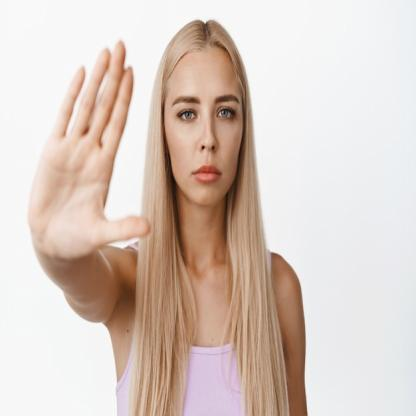stop: (27, 35, 152, 258)
